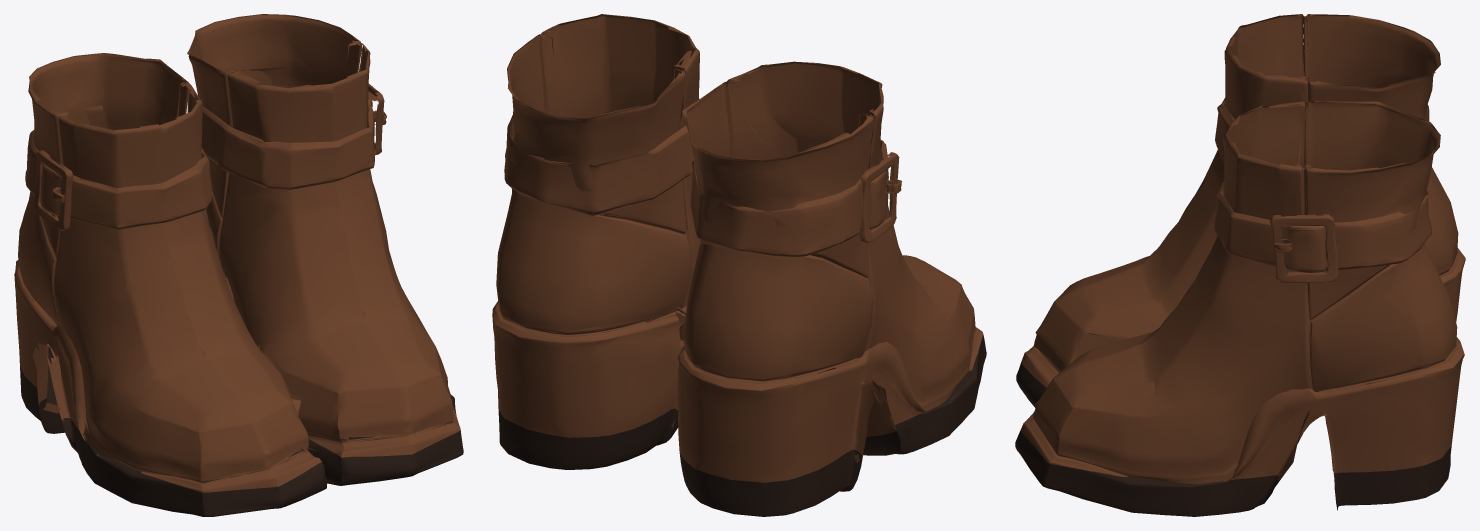
Rendered from shoes_m2_booties.glb.
The picture shows the model from 3 angles, left to right: view 1: azimuth 30°, elevation 25°; view 2: azimuth 150°, elevation 25°; view 3: azimuth 270°, elevation 25°; orthographic projection. The views are drawn at different scales.
Parts seen in each view (by area): view 1: shoes_m2_booties; view 2: shoes_m2_booties; view 3: shoes_m2_booties.
Boxes of the visible parts, x1,y1,x2,y2 form: shoes_m2_booties: (14,14,463,516); shoes_m2_booties: (492,14,986,516); shoes_m2_booties: (1015,14,1465,516).
Bounding box in the file's own units: 0.2962 × 0.2881 × 0.3295.
1 material, 1 textured.
